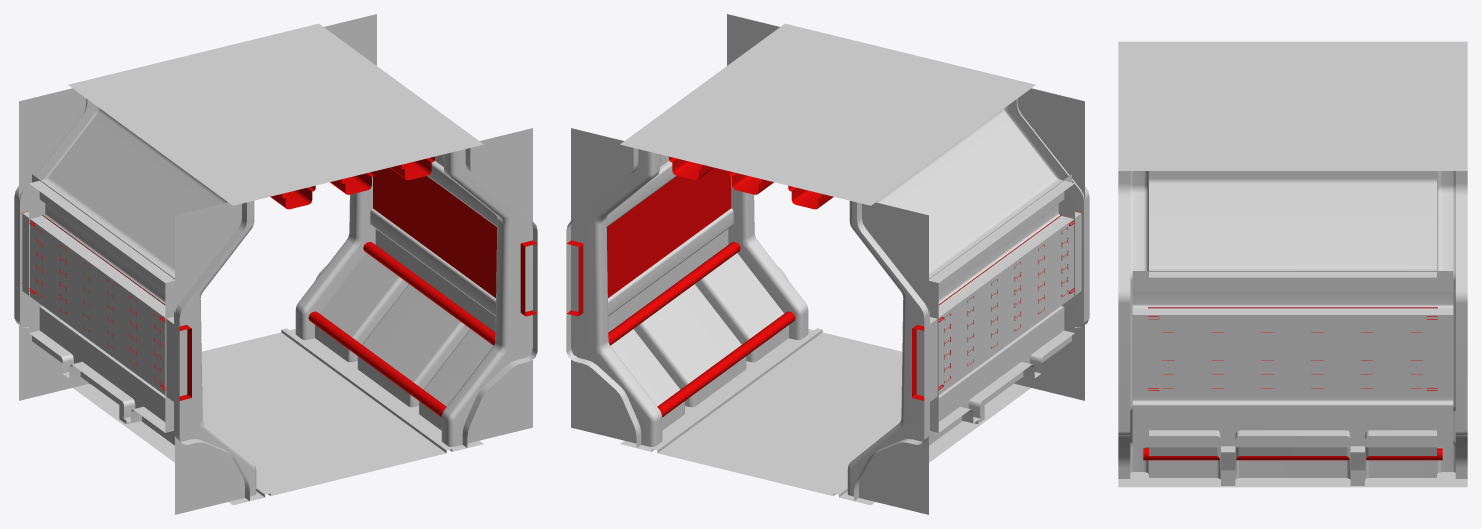
The model's file is gang.fbx.
The picture shows the model from 3 angles, left to right: view 1: azimuth 30°, elevation 25°; view 2: azimuth 150°, elevation 25°; view 3: azimuth 270°, elevation 25°; orthographic projection. The views are drawn at different scales.
Visible parts, largest first — view 1: gesamtteil (×2), boden_decke, wand1 (×2), wand2 (×2), glasscheibe, wand4 (×2), deko_unten1, deko_unten2, wand3, lampe3, lampe1, lampe2; view 2: gesamtteil (×2), boden_decke, wand1 (×2), wand2 (×2), glasscheibe, wand3 (×2), deko_unten1, deko_unten2, wand4, lampe3, lampe2, lampe1; view 3: boden_decke, gesamtteil, wand1, wand2, wand4, wand3, deko_unten1, glasscheibe.
Boxes of the visible parts, x1,y1,x2,y2 form: gesamtteil (×2): (19, 14, 532, 514); boden_decke: (68, 23, 483, 505); wand1 (×2): (22, 154, 497, 401); wand2 (×2): (32, 208, 495, 445); glasscheibe: (373, 167, 497, 297); wand4 (×2): (174, 148, 537, 500); deko_unten1: (308, 311, 446, 417); deko_unten2: (363, 242, 495, 345); wand3: (14, 98, 89, 383); lampe3: (270, 185, 315, 209); lampe1: (330, 171, 375, 194); lampe2: (390, 156, 434, 180); gesamtteil (×2): (571, 14, 1084, 514); boden_decke: (620, 23, 1035, 505); wand1 (×2): (606, 154, 1081, 401); wand2 (×2): (608, 208, 1071, 445); glasscheibe: (606, 167, 730, 297); wand3 (×2): (566, 148, 929, 500); deko_unten1: (657, 311, 795, 417); deko_unten2: (608, 242, 740, 345); wand4: (1014, 98, 1089, 383); lampe3: (788, 185, 833, 209); lampe2: (669, 156, 713, 180); lampe1: (728, 171, 773, 194); boden_decke: (1118, 41, 1467, 487); gesamtteil: (1130, 171, 1455, 485); wand1: (1132, 271, 1453, 396); wand2: (1132, 397, 1453, 447); wand4: (1118, 171, 1130, 478); wand3: (1455, 171, 1467, 478); deko_unten1: (1143, 448, 1442, 460); glasscheibe: (1148, 307, 1437, 308).
Bounding box in the file's own units: 5.02 × 4 × 4.
